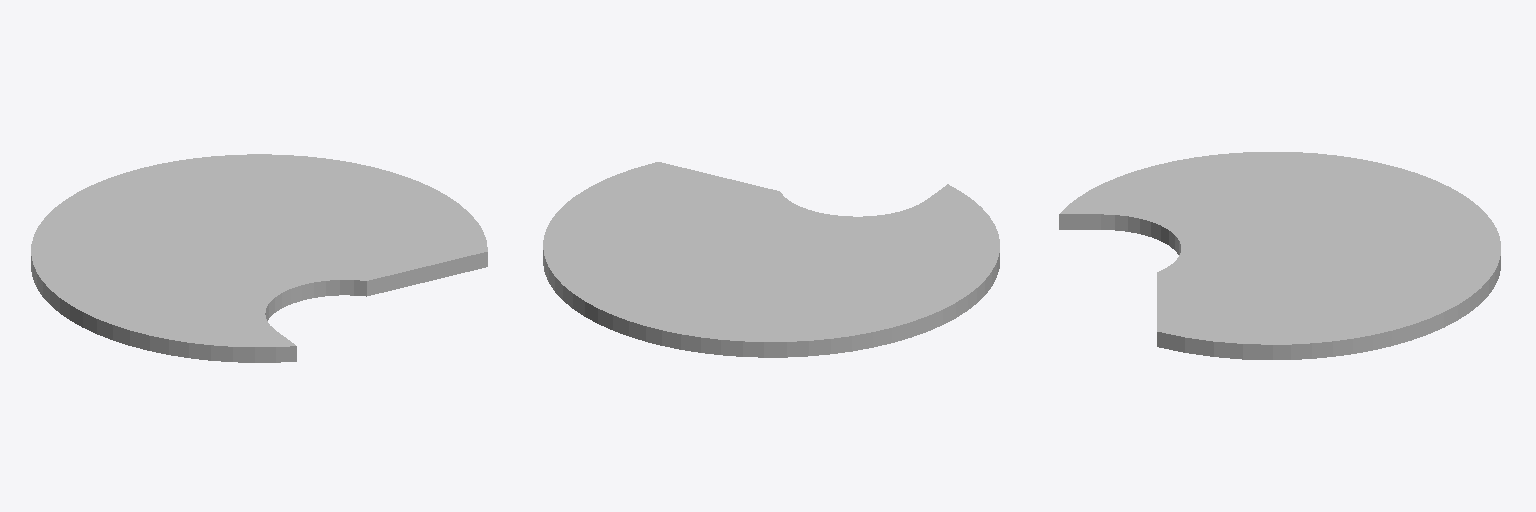
Rendered from barbot4.obj.
3 views of the same model, side by side, from view 1: azimuth 30°, elevation 25°; view 2: azimuth 150°, elevation 25°; view 3: azimuth 270°, elevation 25° (orthographic).
Bounding box in the file's own units: 40 × 1.5 × 38.73.